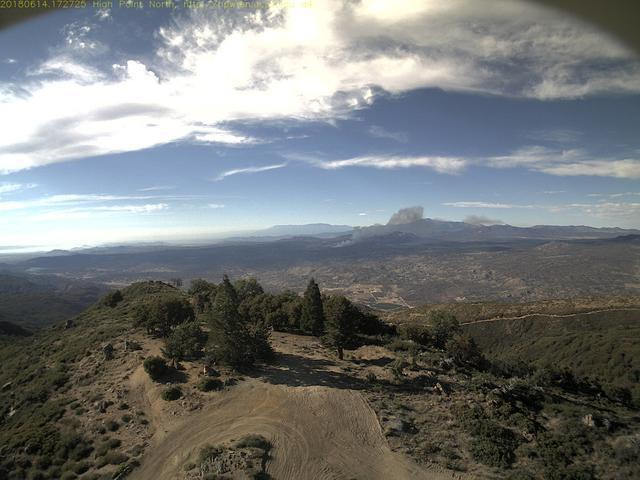Smoke: (328, 202, 425, 250)
